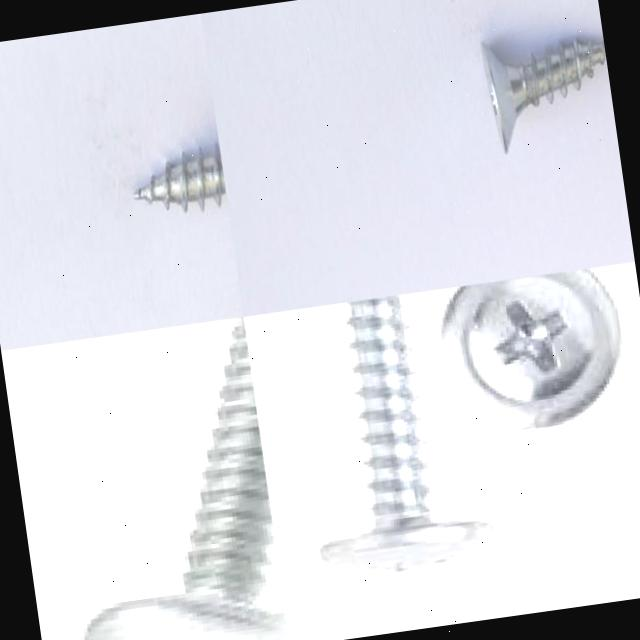Screw: (80, 317, 289, 640), (316, 294, 501, 573), (437, 268, 625, 433), (481, 40, 606, 155), (134, 145, 226, 213)
